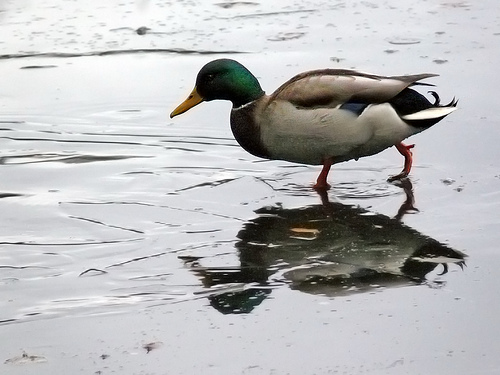duck: (153, 36, 474, 216)
